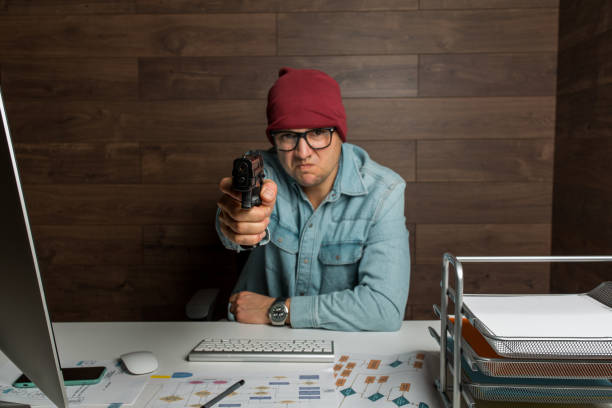gun: (230, 149, 265, 210)
